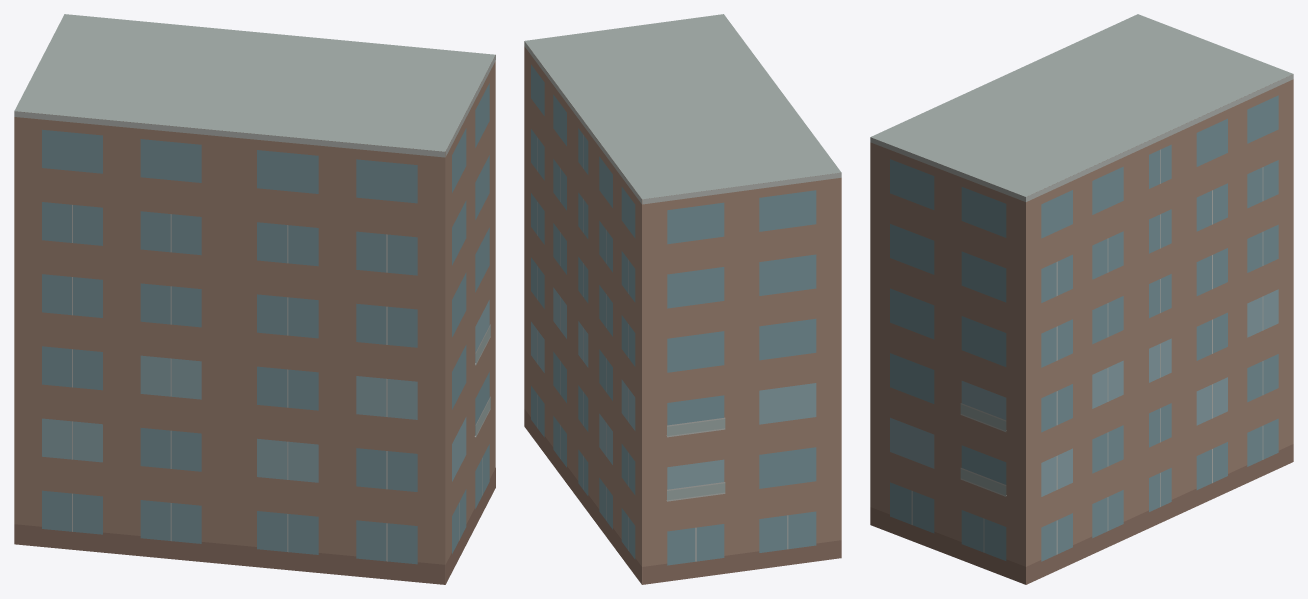
File: survey-upis-32741893.glb
3 views of the same model, side by side, from view 1: azimuth 30°, elevation 25°; view 2: azimuth 150°, elevation 25°; view 3: azimuth 270°, elevation 25° (orthographic). The views are drawn at different scales.
Parts seen in each view (by area): view 1: survey-upis-32741893.tmp; view 2: survey-upis-32741893.tmp; view 3: survey-upis-32741893.tmp.
Part boxes in pixels (x1=…): survey-upis-32741893.tmp: x1=14, y1=14, x2=495, y2=584; survey-upis-32741893.tmp: x1=524, y1=14, x2=841, y2=584; survey-upis-32741893.tmp: x1=870, y1=14, x2=1293, y2=584.
Size of the model in its own units: 18.53 by 18.3 by 18.11.
